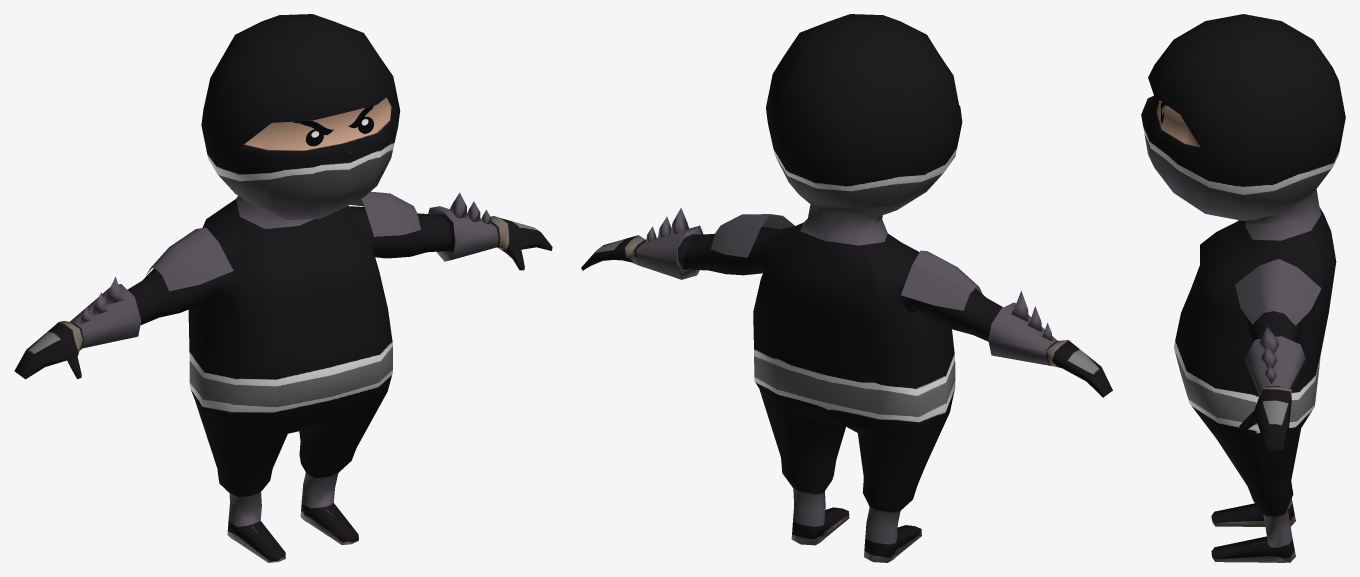
Rendered from maya2sketchfab.fbx.
3 views of the same model, side by side, from view 1: azimuth 30°, elevation 25°; view 2: azimuth 150°, elevation 25°; view 3: azimuth 270°, elevation 25° (orthographic).
Parts seen in each view (by area): view 1: polySurface7; view 2: polySurface7; view 3: polySurface7.
Boxes of the visible parts, x1,y1,x2,y2 form: polySurface7: [14, 14, 552, 562]; polySurface7: [581, 14, 1112, 562]; polySurface7: [1141, 14, 1345, 562].
Size of the model in its own units: 17.29 by 16.11 by 5.8.
Materials: 1 (1 with a texture image).
